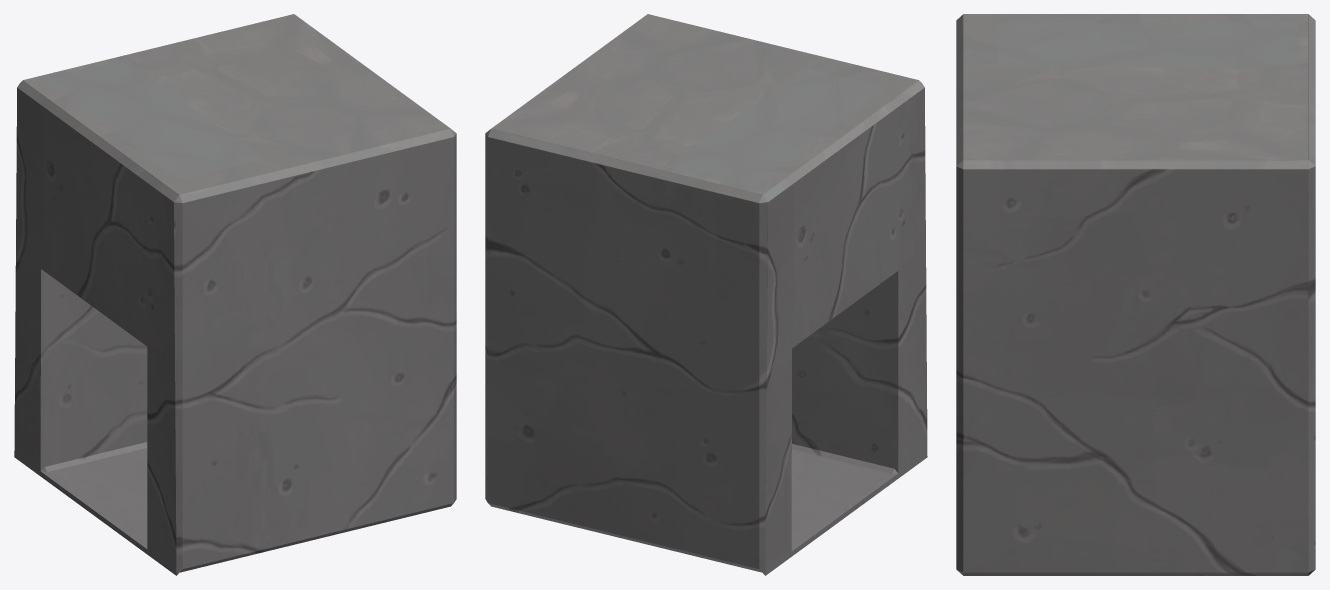
File: platform2.fbx
3 views of the same model, side by side, from view 1: azimuth 30°, elevation 25°; view 2: azimuth 150°, elevation 25°; view 3: azimuth 270°, elevation 25° (orthographic). The views are drawn at different scales.
Visible parts, largest first — view 1: Cube.049; view 2: Cube.049; view 3: Cube.049.
Boxes of the visible parts, x1,y1,x2,y2 form: Cube.049: [14, 14, 456, 575]; Cube.049: [485, 14, 927, 575]; Cube.049: [956, 14, 1315, 575].
Bounding box in the file's own units: 4.32 × 5.52 × 4.32.
